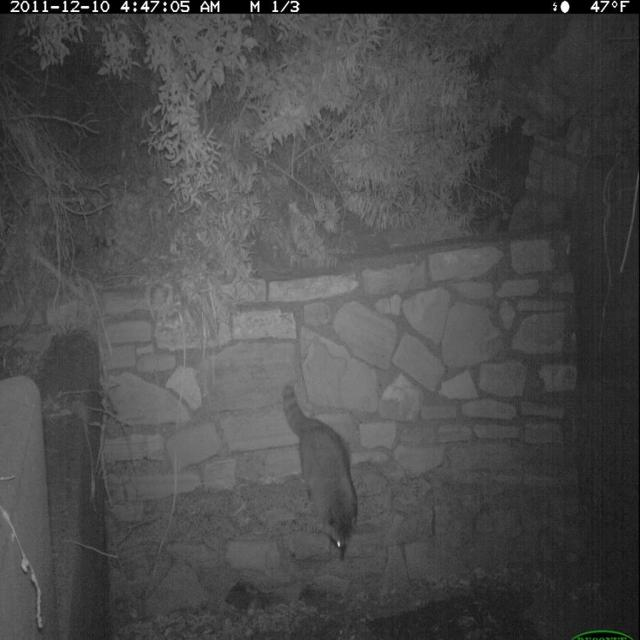raccoon: (279, 376, 365, 569)
